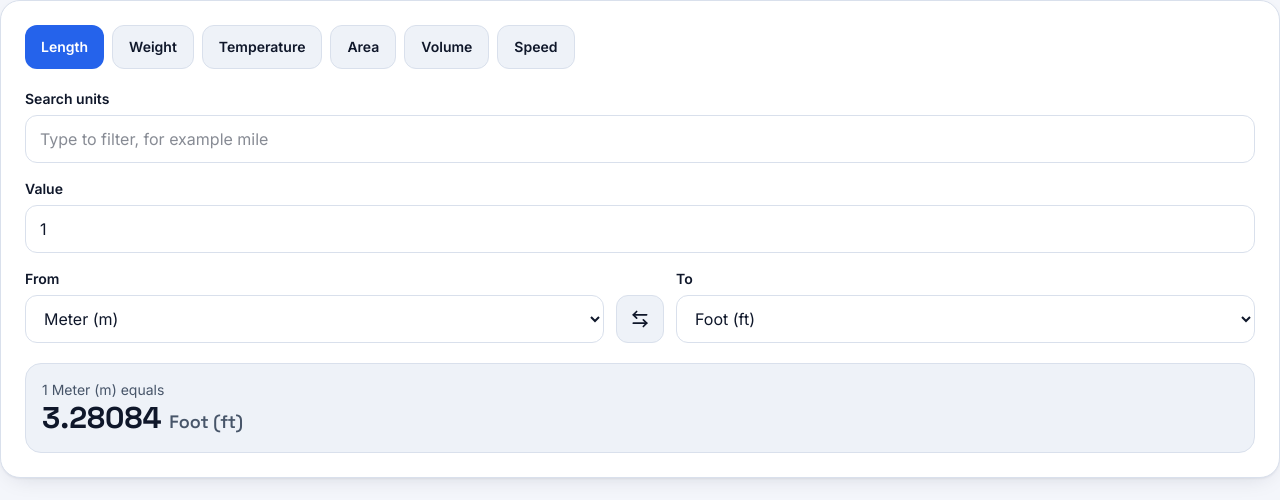
Test case: tools › unit tool converts 1 km to meters via the first two units and swaps
Select "Kilometer (km)" in the dropdown labelled "From" at [314, 319], box x1=25 y1=295 x2=604 y2=343
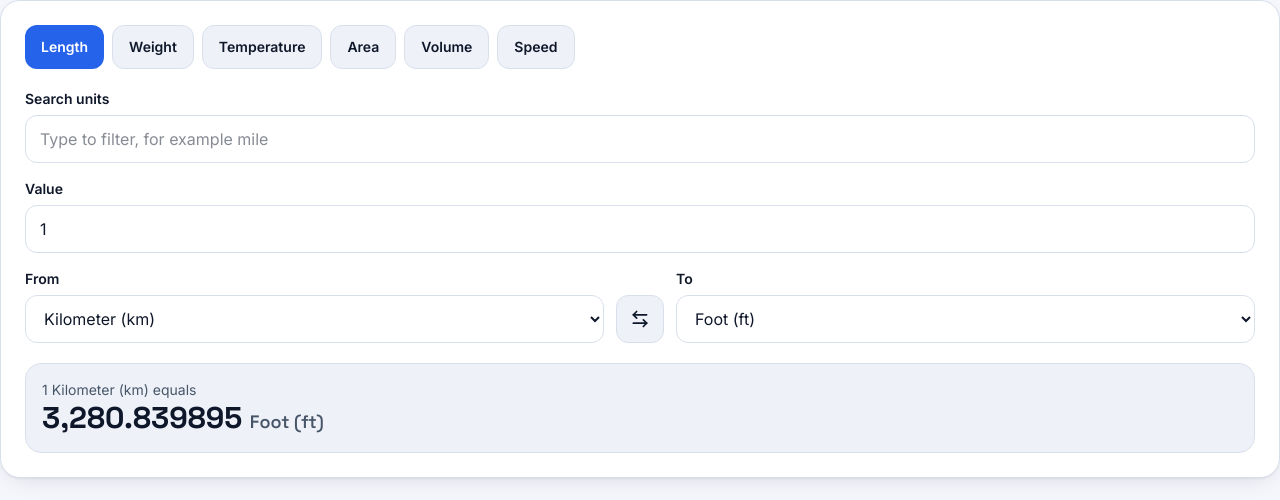
Select "Meter (m)" in the dropdown labelled "To" at [966, 319], box x1=676 y1=295 x2=1255 y2=343
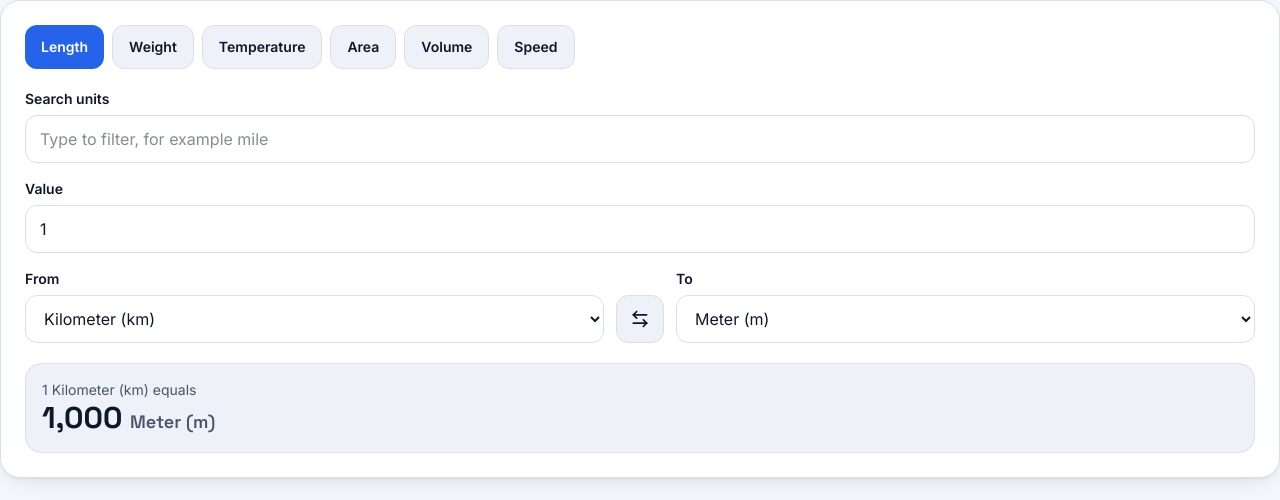
Expected: the text "1,000" is shown, x1=42 y1=398 x2=122 y2=437
Click the button named "Swap units" at [640, 319], box x1=616 y1=295 x2=664 y2=343
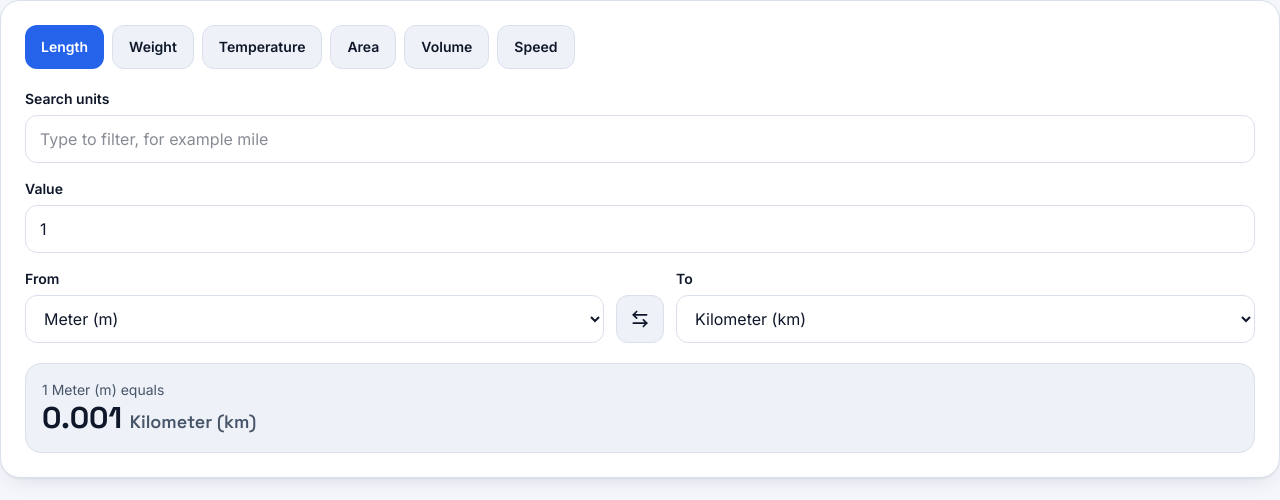
Expected: the text "0.001" is shown, x1=42 y1=398 x2=122 y2=437
